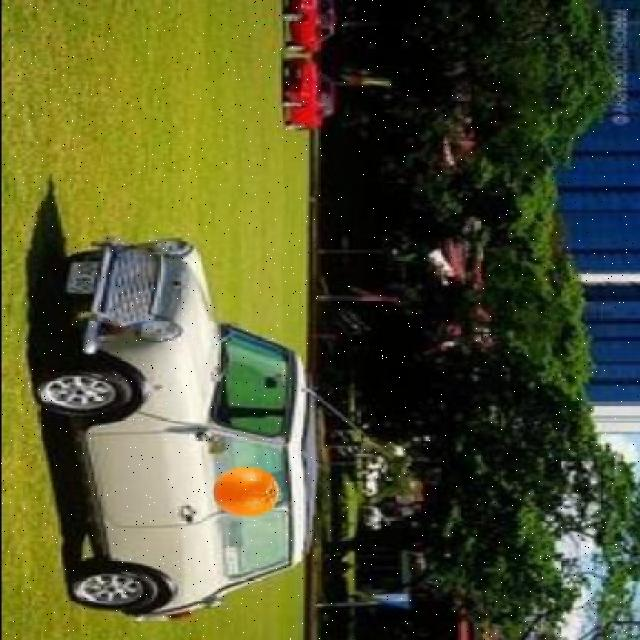Orange: (212, 465, 280, 517)
